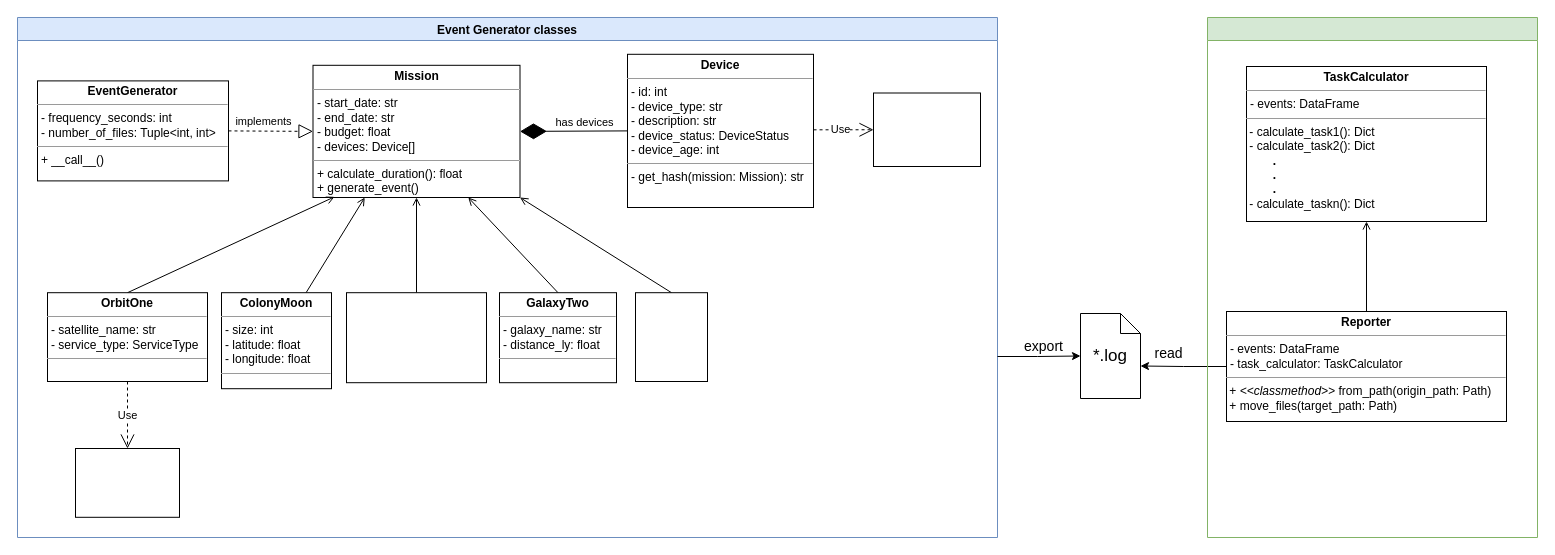
The diagram is 1555 pixels wide and 555 high, and some of its shapes have lost their labels. The shapes that lost their labels are listed below. From the top down, each one's box as (x1, y1, x2, y2) in pixels, then its label:
(872, 92, 980, 166): <<Enum>> DeviceStatus - status: str
(1206, 16, 1538, 538): Reporter classes
(346, 292, 486, 383): VacMars - nro_passengers: int - ticket_price: float + calculate_total(): float
(634, 292, 708, 382): Unknown - uuid: str
(74, 448, 180, 517): <<Enum>> ServiceType - name: str
